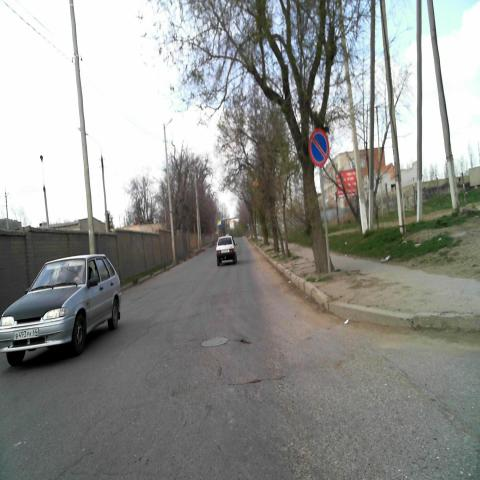3_28: (308, 129, 329, 167)
